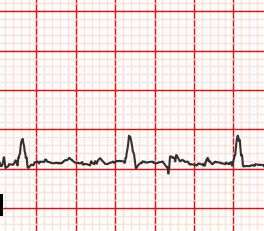Poor R Progression: (14, 136, 30, 168), (230, 132, 245, 166), (122, 133, 138, 163)
T inversion: (153, 152, 186, 177)
